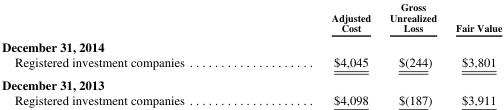table: (1, 1, 501, 106)
table column: (1, 1, 257, 106), (257, 1, 379, 106), (379, 1, 445, 106), (445, 1, 501, 106)
table column header: (1, 1, 501, 35)
table projected row header: (1, 35, 501, 54), (1, 72, 501, 91)
table row: (1, 1, 501, 35), (1, 35, 501, 54), (1, 72, 501, 91), (1, 54, 501, 72), (1, 91, 501, 106)
